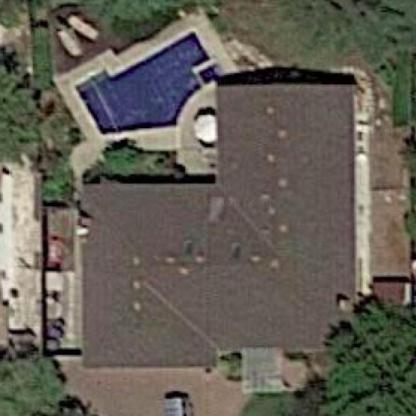swimming_pool: (70, 28, 222, 141)
